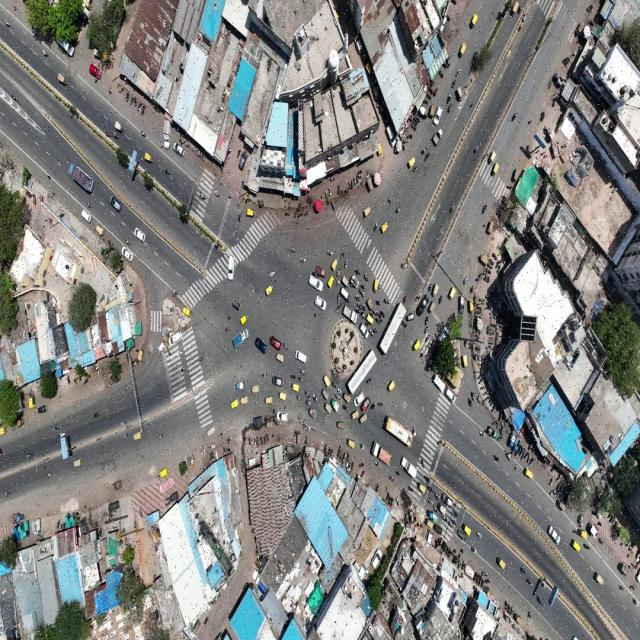3W: (427, 336, 439, 351), (412, 338, 421, 354), (443, 309, 452, 324), (326, 275, 337, 287), (347, 438, 356, 452), (291, 383, 302, 394), (323, 401, 331, 416), (496, 558, 506, 570), (276, 352, 284, 366), (97, 220, 104, 236), (482, 220, 489, 236), (265, 392, 273, 406), (578, 528, 588, 539), (321, 388, 330, 400), (387, 380, 396, 392), (240, 394, 249, 406), (479, 311, 486, 326), (277, 391, 287, 401), (183, 304, 191, 316), (455, 312, 461, 328), (440, 129, 447, 142), (573, 539, 580, 552), (375, 275, 380, 293), (494, 454, 503, 464), (252, 384, 260, 395), (385, 180, 391, 194), (160, 466, 168, 476), (525, 469, 533, 479), (506, 181, 512, 194), (58, 74, 65, 85), (492, 264, 498, 276), (455, 281, 459, 299), (144, 153, 152, 162), (430, 102, 435, 116), (240, 315, 247, 325), (337, 420, 344, 430), (415, 370, 425, 377), (464, 524, 471, 534), (267, 286, 273, 297), (138, 348, 144, 359), (596, 573, 602, 584), (248, 207, 255, 216), (109, 240, 116, 249), (230, 402, 240, 408), (459, 299, 465, 309), (343, 274, 347, 287), (441, 292, 444, 308), (332, 263, 338, 271)
Bus: (381, 294, 407, 358), (346, 350, 377, 394), (384, 411, 414, 447)
Cars: (547, 523, 562, 548), (307, 271, 324, 292), (416, 294, 429, 320), (293, 345, 308, 366), (165, 328, 182, 346), (432, 372, 444, 395), (132, 227, 148, 244), (212, 218, 226, 235), (227, 256, 237, 279), (122, 244, 134, 263), (89, 62, 102, 78), (269, 335, 281, 352), (255, 336, 266, 354), (366, 376, 378, 392), (445, 386, 455, 405), (173, 140, 186, 154), (493, 191, 502, 211), (110, 196, 122, 211), (271, 373, 283, 388), (359, 320, 369, 336), (314, 296, 324, 310), (461, 238, 468, 257), (109, 500, 122, 510), (118, 435, 130, 445), (278, 410, 289, 420)
LCV: (231, 328, 249, 348), (387, 197, 401, 217), (234, 381, 247, 392), (112, 479, 124, 490), (332, 399, 340, 411), (427, 318, 435, 324)
M2W: (393, 162, 402, 175), (401, 188, 410, 200), (176, 348, 186, 358), (416, 146, 426, 156), (542, 112, 548, 128), (583, 541, 591, 553), (361, 304, 367, 319), (116, 386, 126, 395), (469, 225, 477, 236), (333, 306, 340, 318), (424, 150, 429, 166), (224, 323, 231, 334), (449, 519, 456, 530), (282, 339, 288, 351), (86, 415, 94, 424), (356, 209, 364, 218), (358, 443, 367, 451), (336, 280, 345, 288), (414, 163, 422, 172), (373, 460, 381, 469), (442, 513, 448, 525), (86, 199, 94, 208), (460, 266, 466, 278), (354, 266, 361, 276), (388, 470, 395, 480), (362, 272, 369, 282), (125, 235, 132, 245), (303, 388, 310, 398), (363, 420, 374, 426), (354, 291, 360, 302), (213, 189, 221, 197), (422, 172, 430, 180), (370, 216, 378, 224), (269, 269, 276, 278), (409, 159, 418, 166), (348, 389, 355, 398), (424, 472, 431, 481), (469, 248, 476, 257), (433, 505, 440, 514), (337, 268, 343, 278), (164, 166, 170, 176), (340, 250, 346, 260), (514, 464, 520, 474), (336, 296, 342, 306), (342, 402, 347, 414), (200, 194, 206, 204), (338, 384, 343, 396), (311, 391, 317, 401), (342, 261, 349, 269), (426, 496, 433, 504), (492, 218, 500, 225), (288, 373, 296, 380), (291, 246, 298, 254), (280, 405, 286, 414), (487, 235, 493, 244), (480, 273, 486, 282), (481, 256, 486, 266), (428, 484, 433, 494), (357, 402, 362, 412), (298, 374, 303, 384), (160, 431, 167, 438), (512, 134, 519, 141), (354, 304, 362, 310), (342, 389, 348, 397), (489, 249, 495, 257), (173, 288, 178, 297), (435, 490, 439, 501), (76, 454, 82, 461), (372, 298, 378, 305), (262, 371, 268, 378), (332, 382, 338, 389), (304, 402, 311, 408), (178, 368, 186, 373), (378, 400, 383, 408), (513, 132, 516, 145), (113, 132, 119, 138), (384, 296, 389, 303), (370, 402, 375, 409), (372, 325, 377, 332), (94, 424, 100, 429), (377, 316, 382, 322), (370, 325, 373, 334)
MAV: (66, 160, 94, 193), (371, 435, 390, 467)
Truck: (343, 306, 357, 324)
